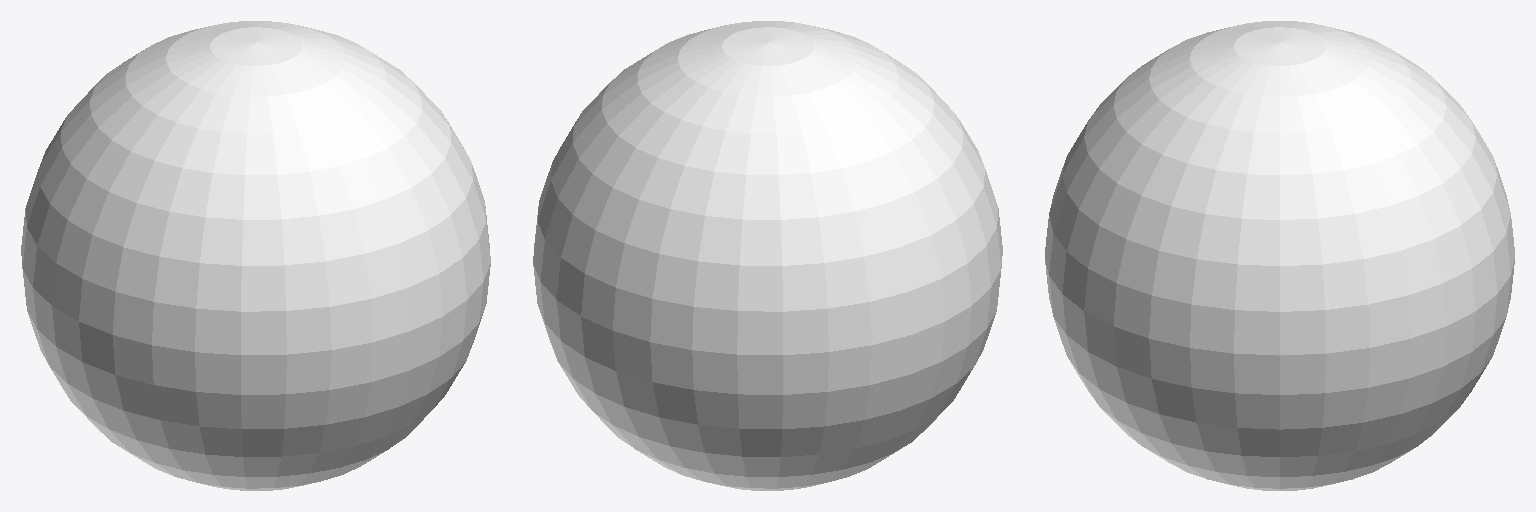
3 views of the same model, side by side, from view 1: azimuth 30°, elevation 25°; view 2: azimuth 150°, elevation 25°; view 3: azimuth 270°, elevation 25° (orthographic).
Parts seen in each view (by area): view 1: Sphere; view 2: Sphere; view 3: Sphere.
Boxes of the visible parts, x1,y1,x2,y2 form: Sphere: [21, 21, 490, 490]; Sphere: [533, 21, 1002, 490]; Sphere: [1045, 21, 1514, 490].
Size of the model in its own units: 0.5 by 0.5 by 0.5.
Materials: 1 (1 with a texture image).